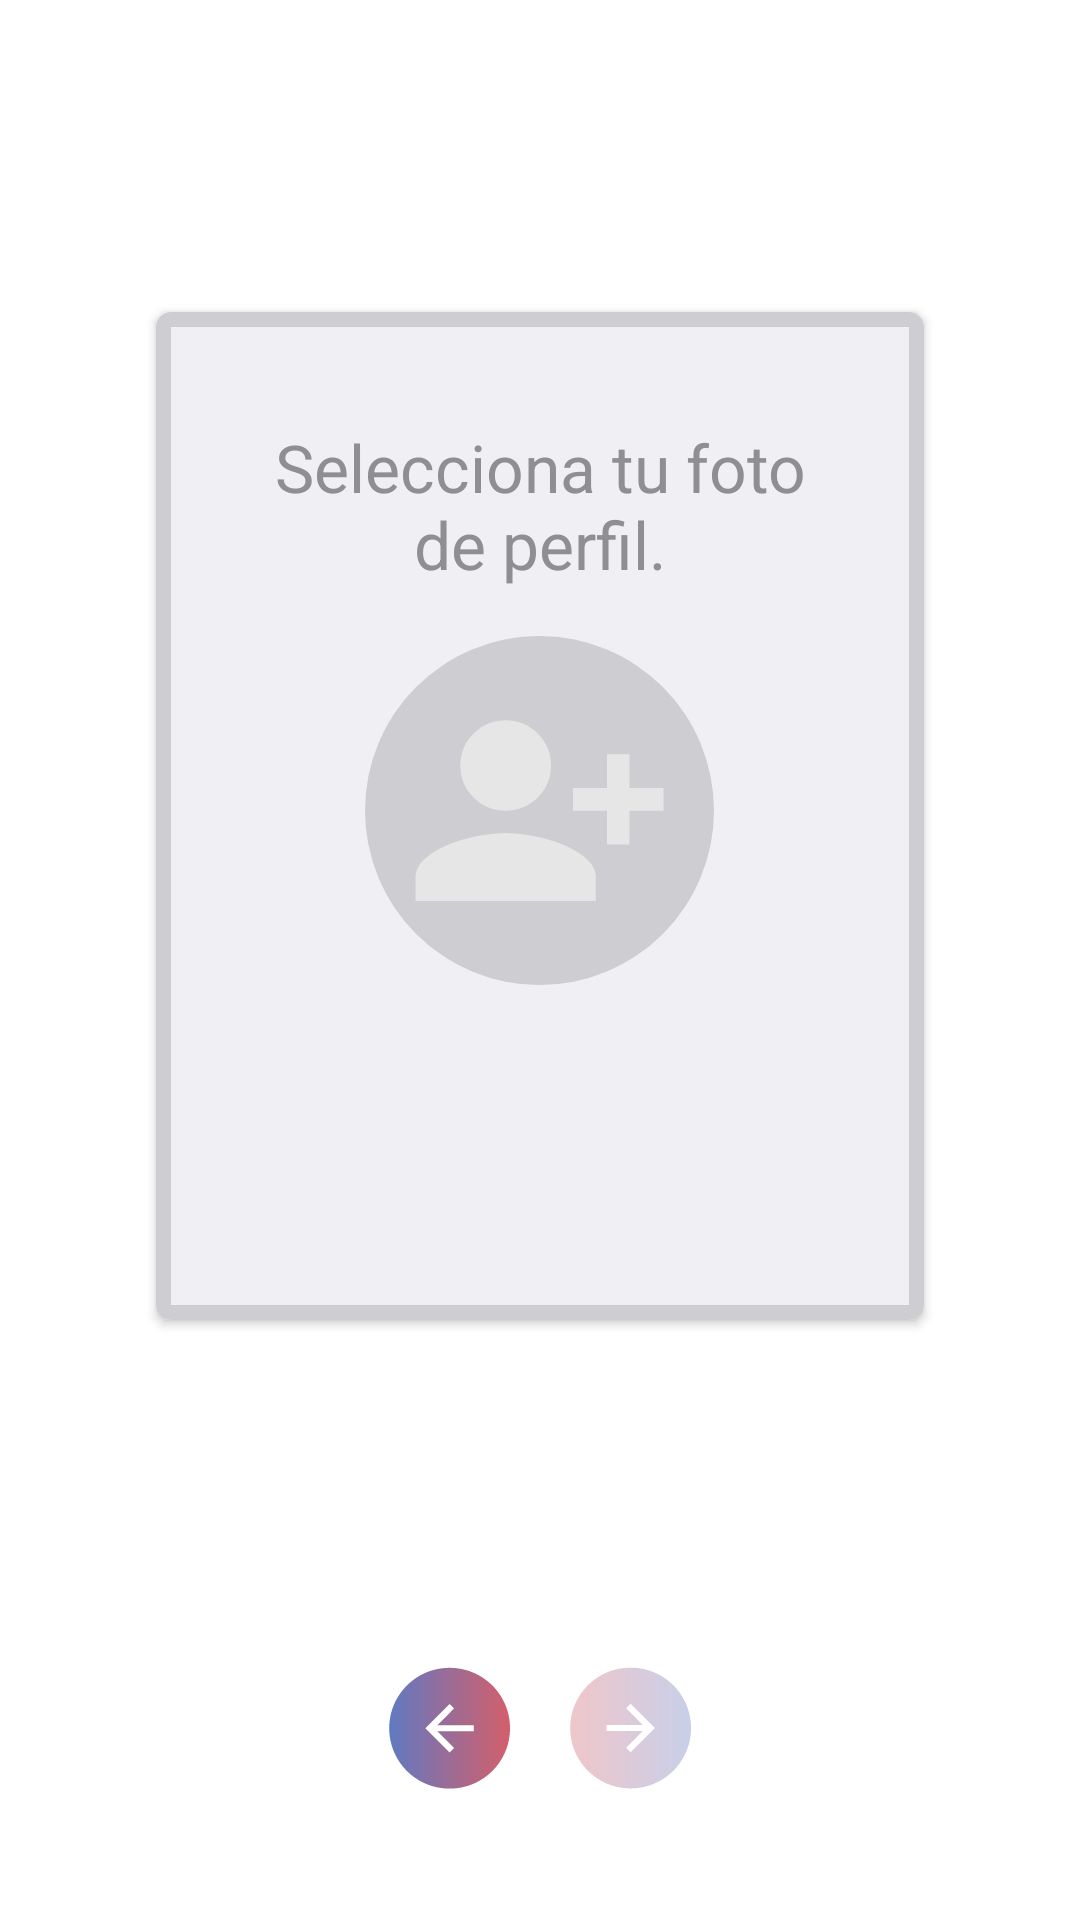

Locate icon controls on the screen. Image size 1080 × 1920, boxes as bbox=[x1, y1, x2, y2].
add photo resource: bbox=[365, 636, 714, 985]
back shining: bbox=[389, 1667, 510, 1789]
next: bbox=[570, 1668, 691, 1789]
